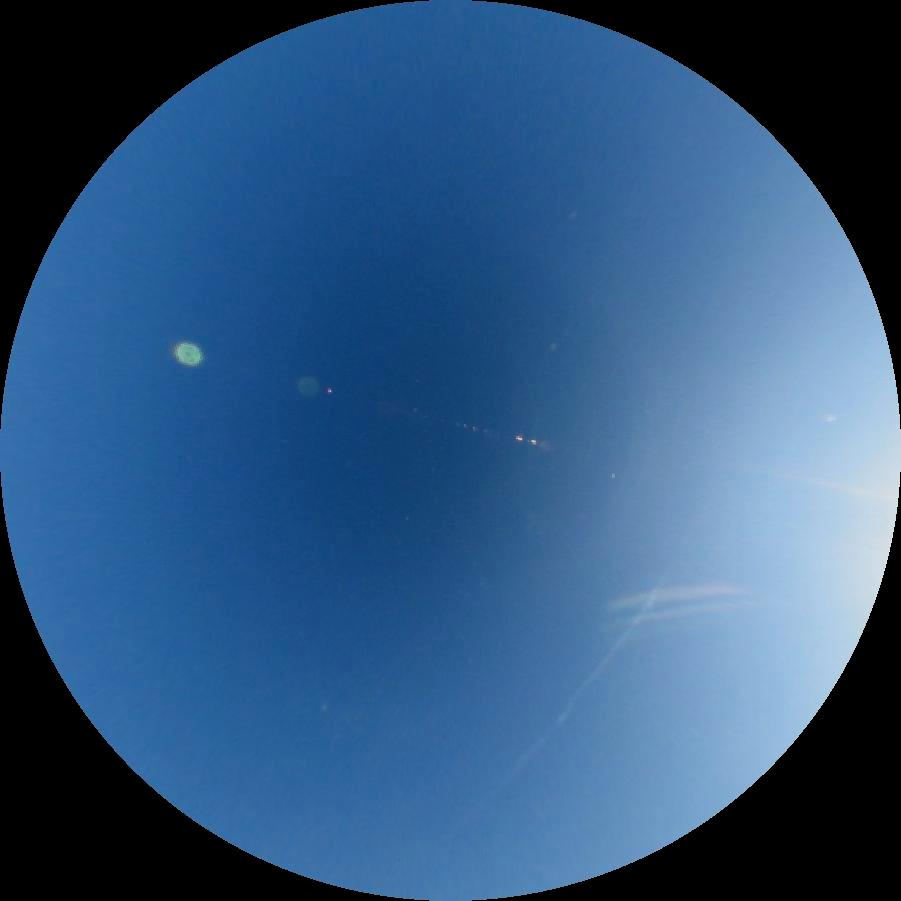contrail veryold: (441, 553, 690, 850)
parasite: (729, 458, 885, 498), (603, 576, 734, 615)
